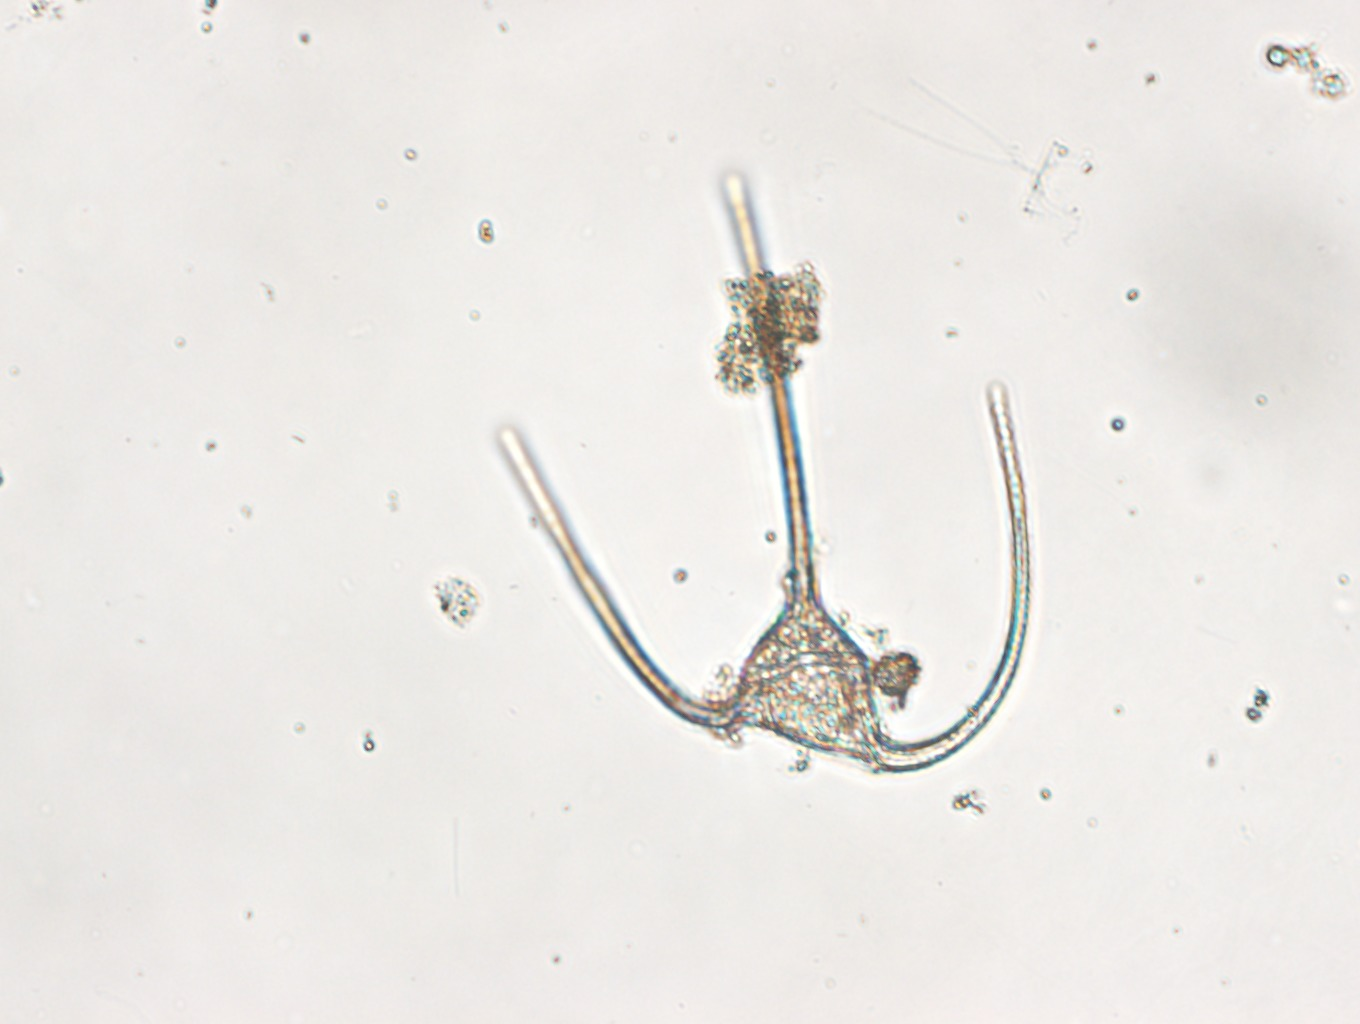ceratium trichoceros: (493, 174, 1032, 772)
chaetoceros: (861, 72, 1096, 222)
